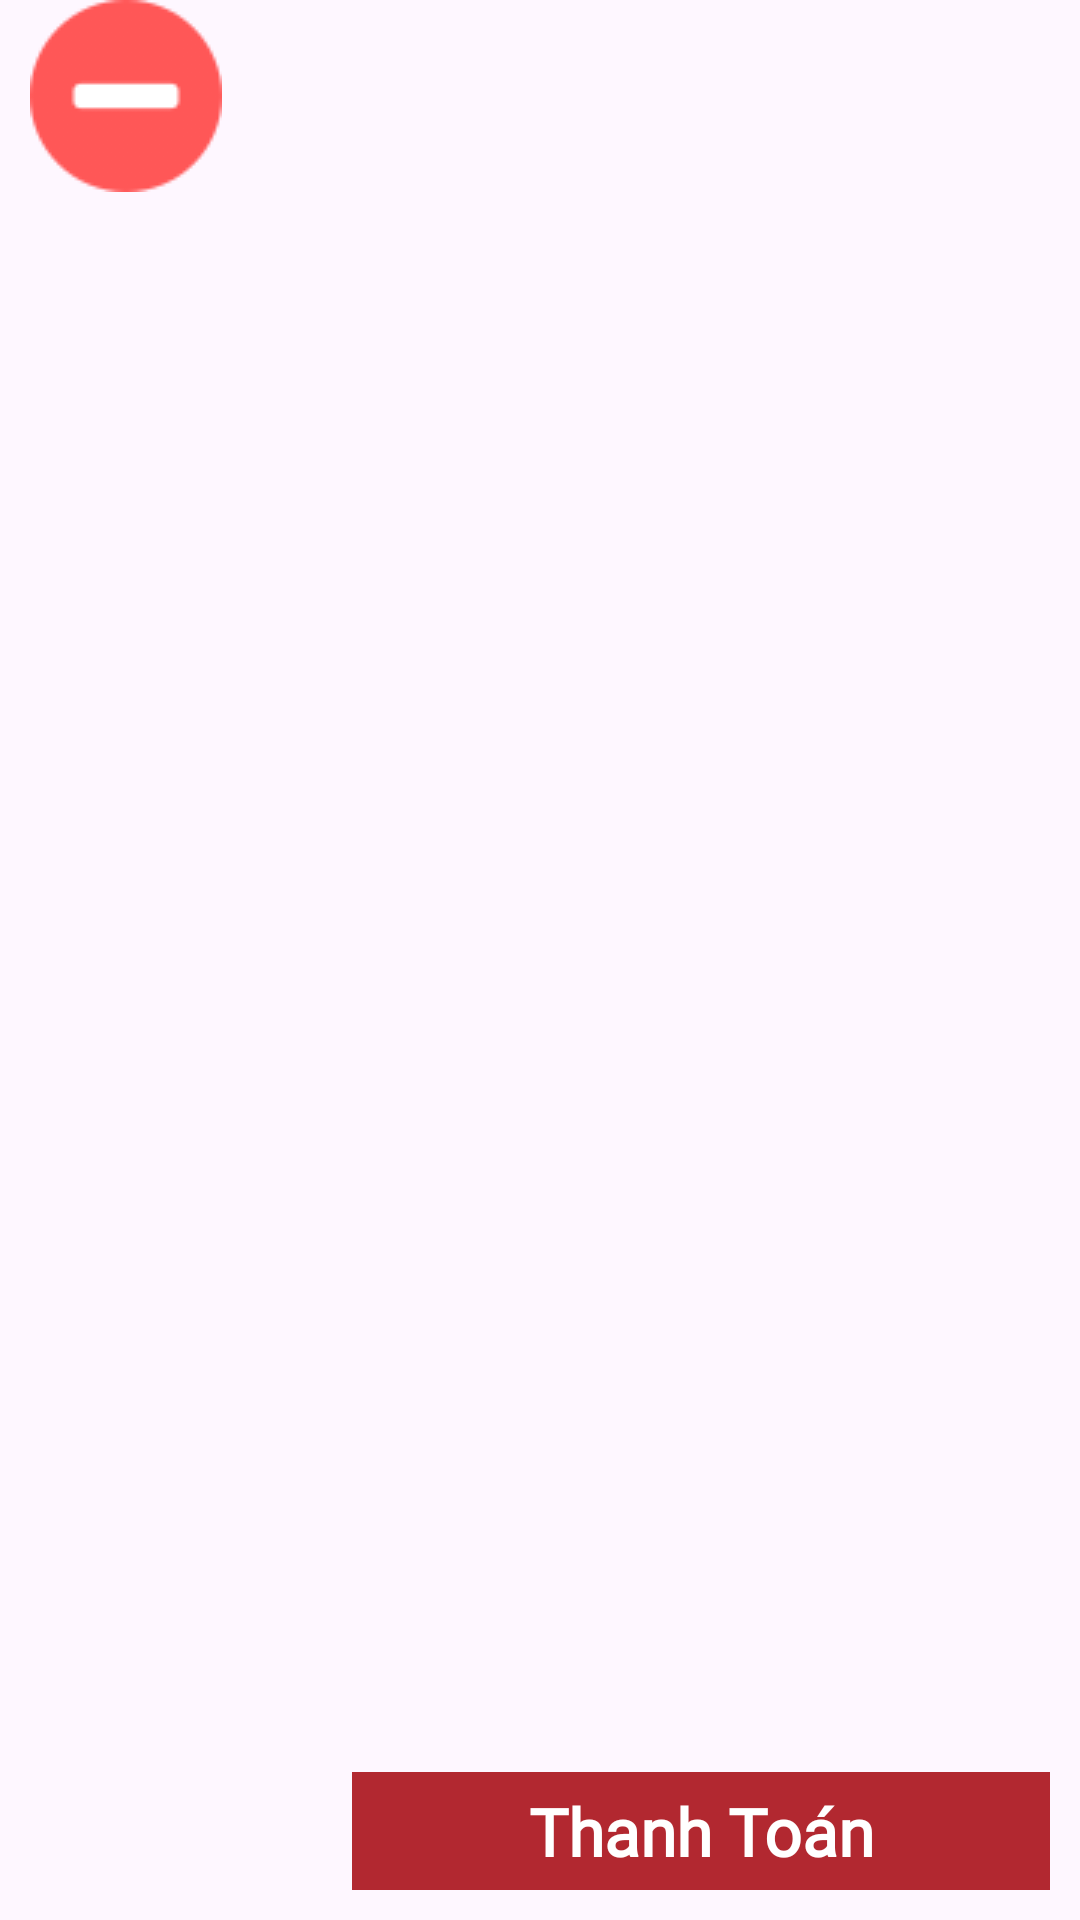

Icon bounding boxes for this 1080*1920 phone screenshot, format [left=x1, top=y1, right=x2, bottom=y2]:
minus: [left=30, top=0, right=222, bottom=192]
